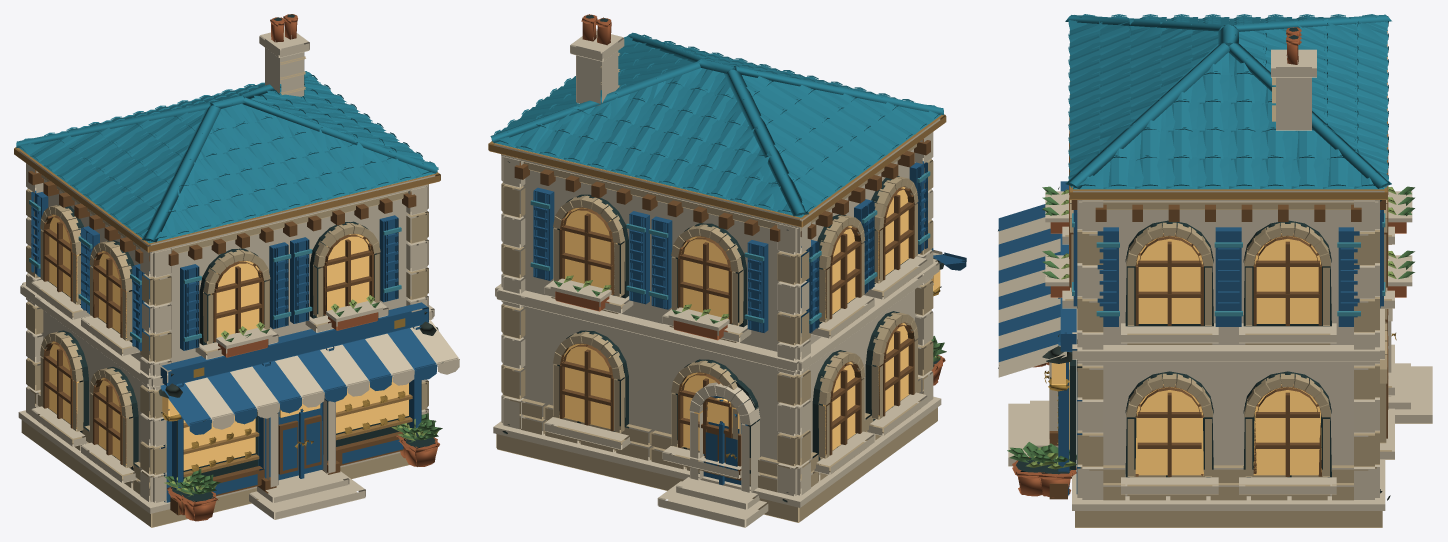
The picture shows the model from 3 angles, left to right: view 1: azimuth 30°, elevation 25°; view 2: azimuth 150°, elevation 25°; view 3: azimuth 270°, elevation 25°; orthographic projection. The views are drawn at different scales.
Visible parts, largest first — view 1: harbor_shop_2_geometry, harbor_shop_2_geometry ceramic; view 2: harbor_shop_2_geometry, harbor_shop_2_geometry ceramic; view 3: harbor_shop_2_geometry, harbor_shop_2_geometry ceramic.
Boxes of the visible parts, left/top/right/bottom form: harbor_shop_2_geometry: left=14, top=14, right=459, bottom=527; harbor_shop_2_geometry ceramic: left=16, top=71, right=438, bottom=342; harbor_shop_2_geometry: left=488, top=14, right=966, bottom=527; harbor_shop_2_geometry ceramic: left=490, top=32, right=943, bottom=324; harbor_shop_2_geometry: left=998, top=27, right=1432, bottom=527; harbor_shop_2_geometry ceramic: left=1065, top=14, right=1391, bottom=316.
Size of the model in its own units: 0.9369 by 1.15 by 0.99.
